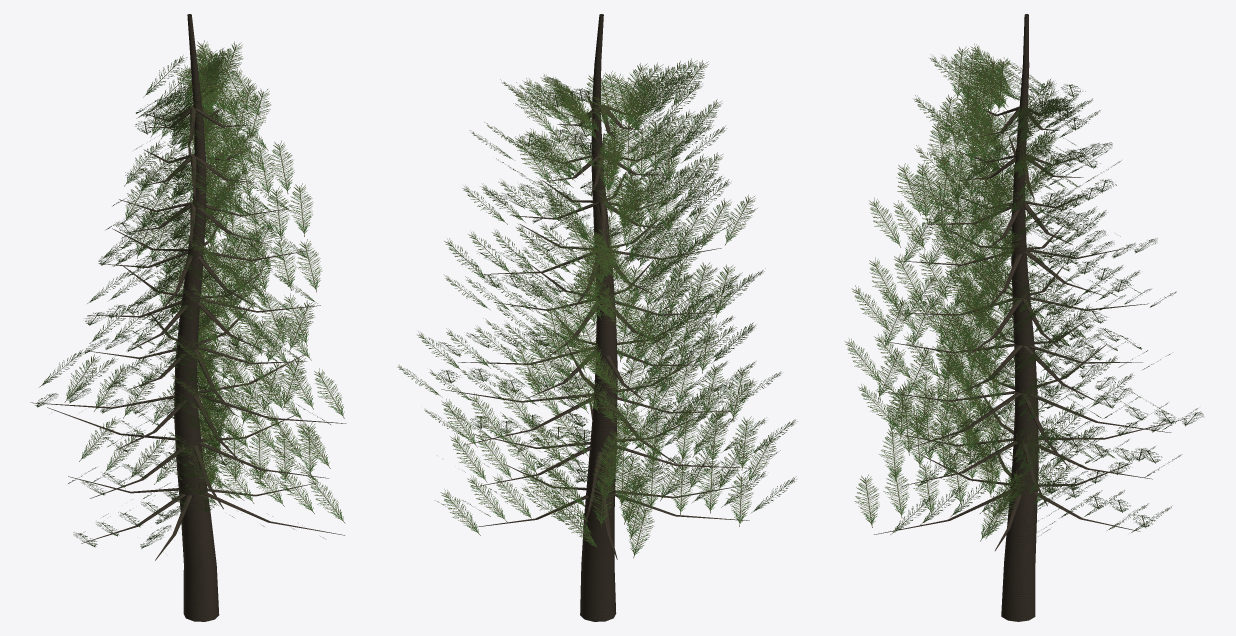
Rendered from Pine_83_LOD0.fbx.
The picture shows the model from 3 angles, left to right: view 1: azimuth 30°, elevation 25°; view 2: azimuth 150°, elevation 25°; view 3: azimuth 270°, elevation 25°; orthographic projection.
Parts seen in each view (by area): view 1: Pine_83_LOD0; view 2: Pine_83_LOD0; view 3: Pine_83_LOD0.
Boxes of the visible parts, box(x1,y1,x2,y2) form: Pine_83_LOD0: box(30, 14, 346, 621); Pine_83_LOD0: box(397, 14, 797, 621); Pine_83_LOD0: box(845, 14, 1203, 621).
Size of the model in its own units: 566 by 949 by 565.
